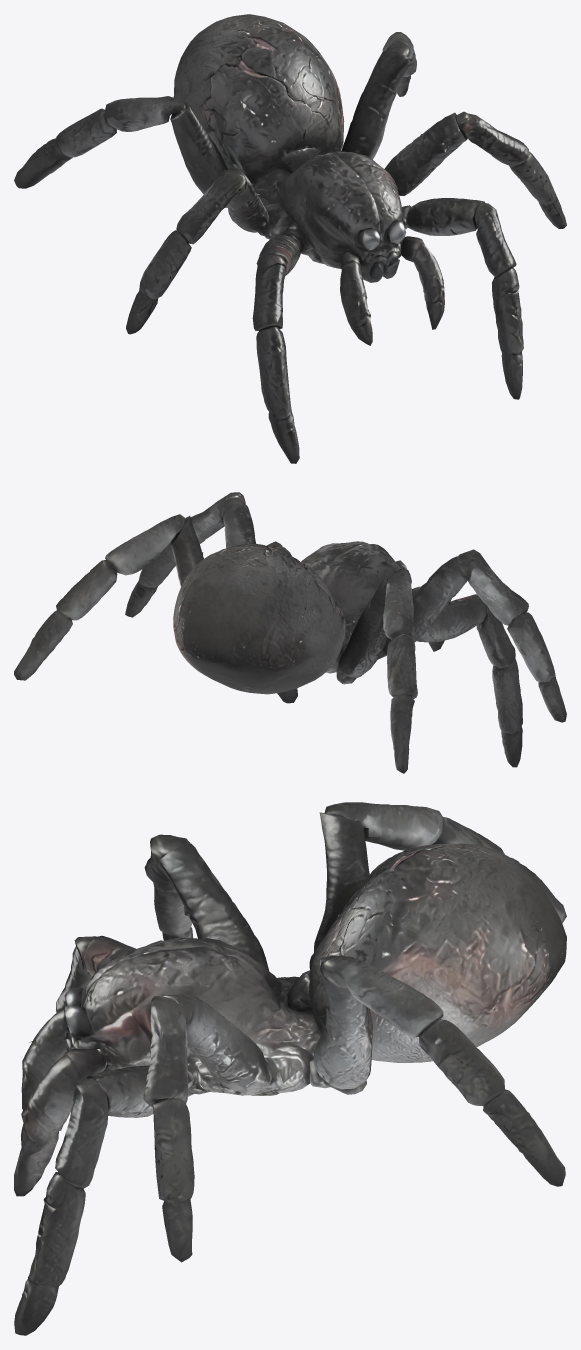
File: spider2.glb
3 renders of one model, top to bottom at view 1: azimuth 30°, elevation 25°; view 2: azimuth 150°, elevation 25°; view 3: azimuth 270°, elevation 25°, orthographic. The views are drawn at different scales.
Parts seen in each view (by area): view 1: model; view 2: model; view 3: model.
Boxes of the visible parts, x1,y1,x2,y2 form: model: (14, 14, 566, 463); model: (14, 492, 566, 773); model: (14, 802, 566, 1335).
Bounding box in the file's own units: 9.6 × 6.28 × 7.52.
1 material, 1 textured.
